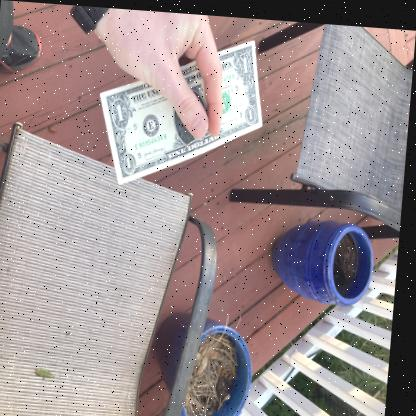one-front: (102, 43, 261, 182)
